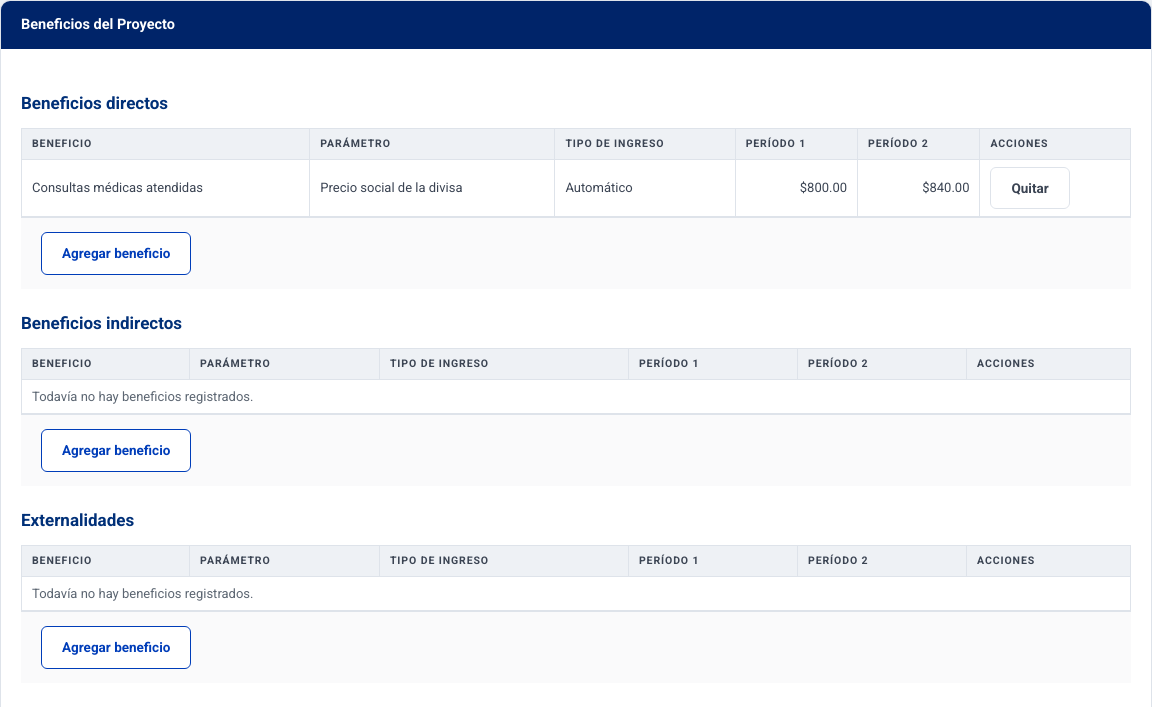
Test: Detalle del beneficio (CU-PRE-20, Anexo A.2) › exige el parámetro
This screenshot has width=1152, height=707.
Click the button "Agregar beneficio" below "Consultas médicas atendidas": (116, 253) x1=41 y1=232 x2=191 y2=275
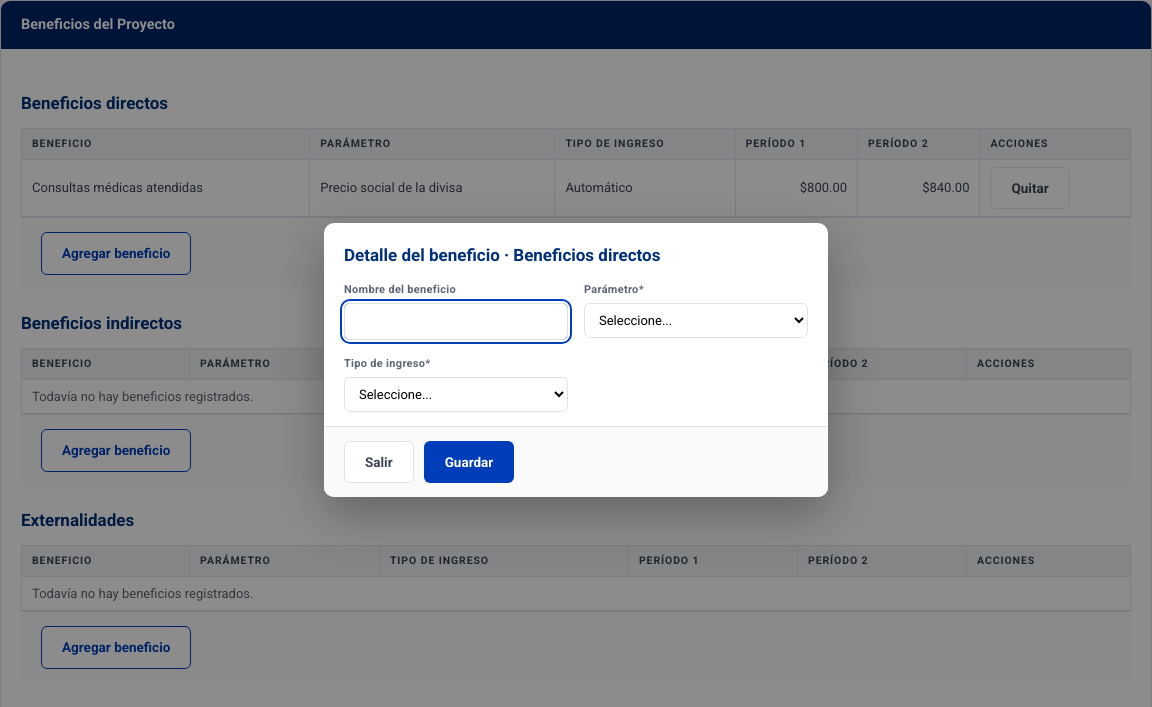
Click the button "Guardar": (469, 462) x1=424 y1=441 x2=514 y2=483
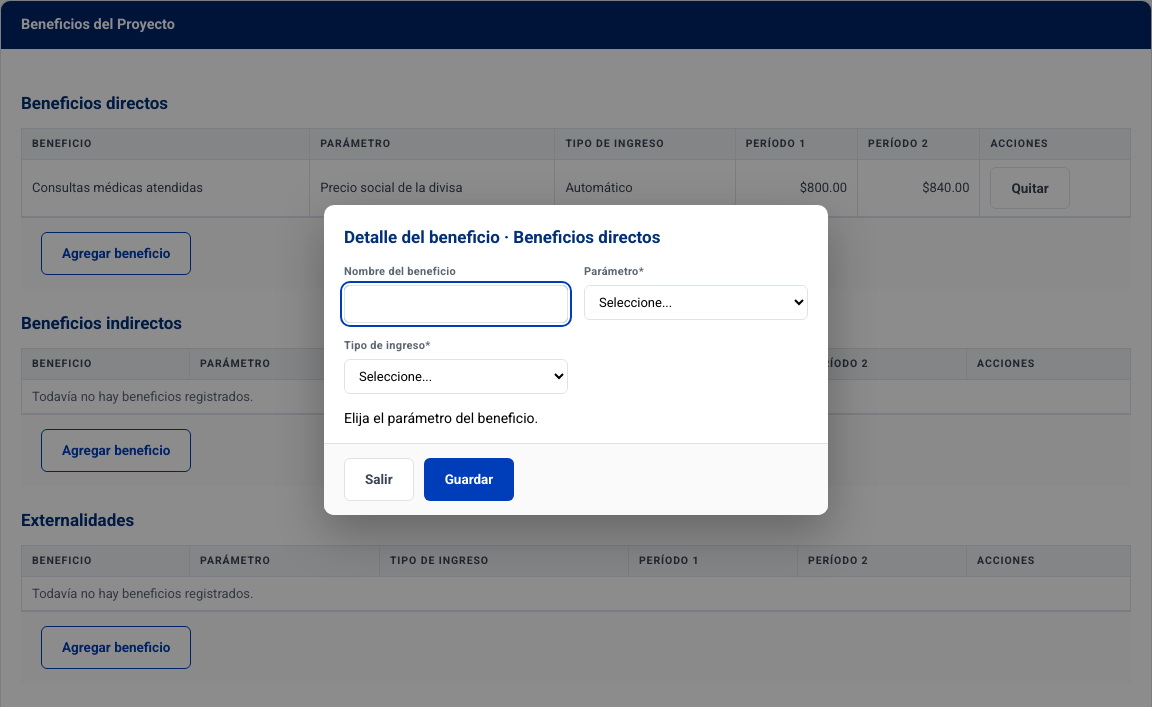
Expected: the message reads "Elija el parámetro del beneficio.", x1=344 y1=410 x2=538 y2=426
